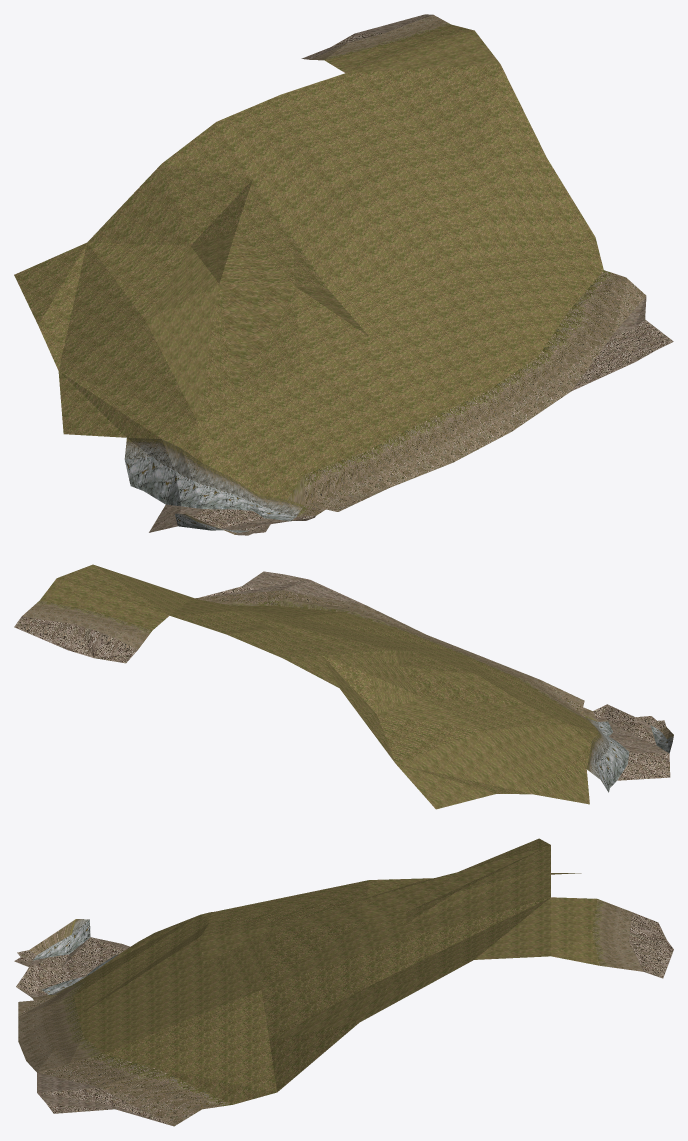
The model's file is lodcunts09.obj.
The picture shows the model from 3 angles, top to bottom: view 1: azimuth 30°, elevation 25°; view 2: azimuth 150°, elevation 25°; view 3: azimuth 270°, elevation 25°; orthographic projection. The views are drawn at different scales.
Parts seen in each view (by area): view 1: LODcunts09; view 2: LODcunts09; view 3: LODcunts09.
Part boxes in pixels (<box>): LODcunts09: <box>14,14,673,535</box>; LODcunts09: <box>14,564,673,809</box>; LODcunts09: <box>14,838,673,1126</box>.
Size of the model in its own units: 254 by 112 by 244.
Materials: 5 (5 with a texture image).
